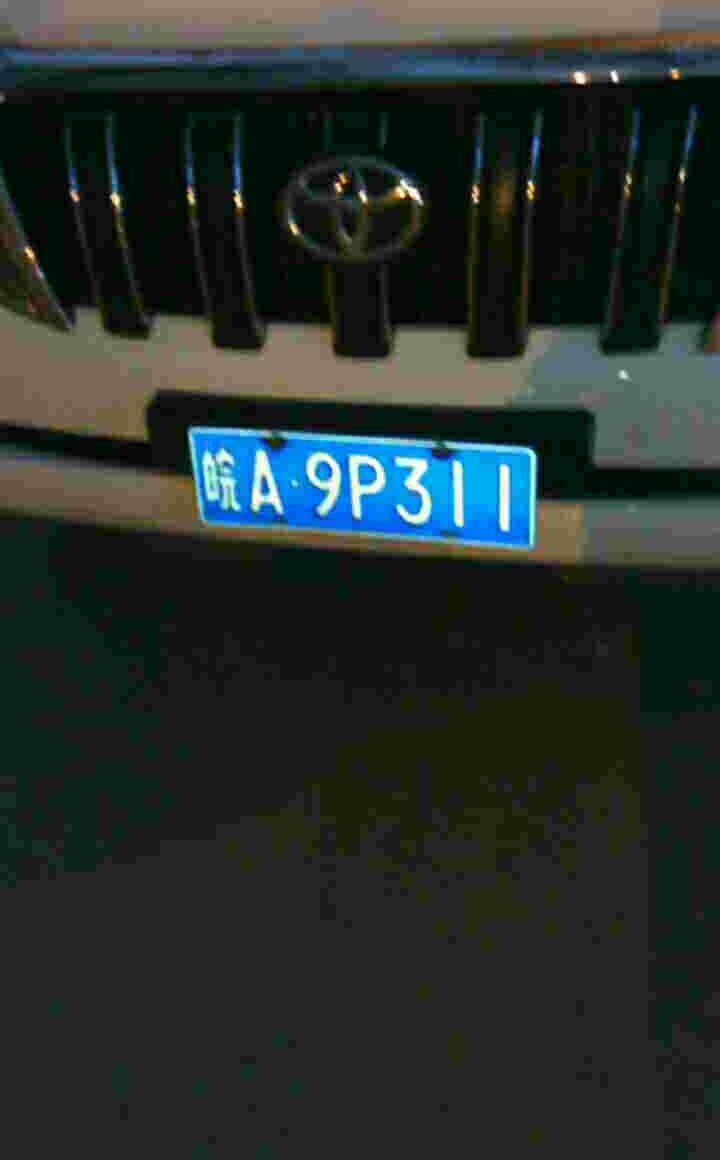license_plate: (183, 424, 531, 546)
